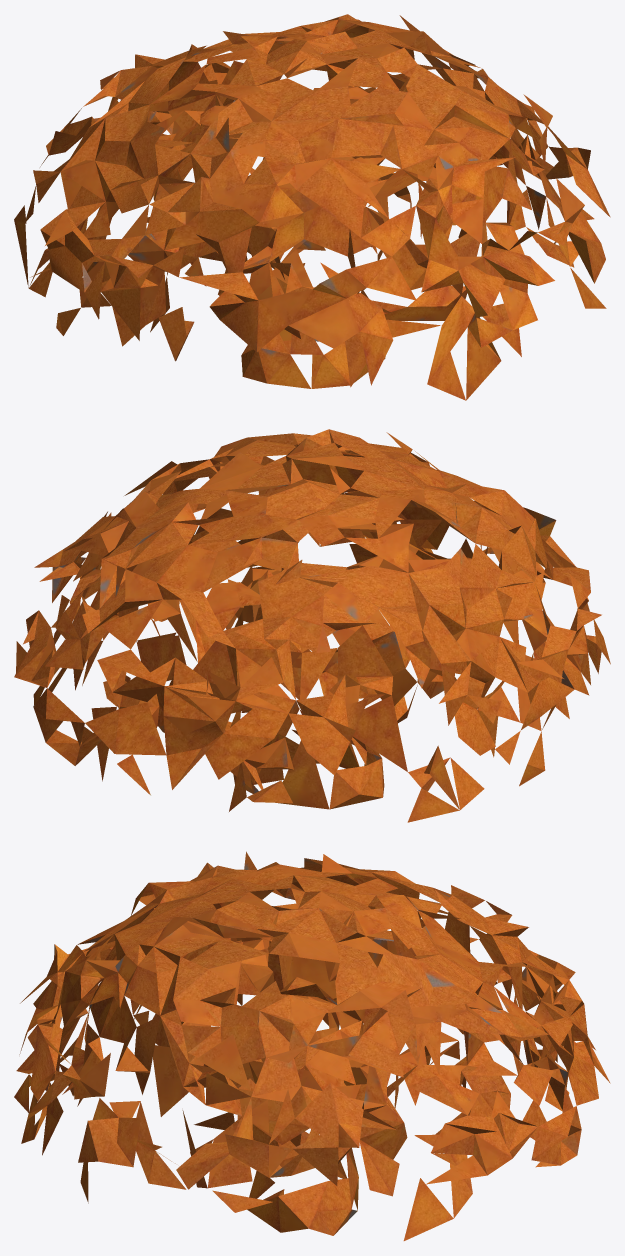
Rendered from bush.glb.
3 renders of one model, top to bottom at view 1: azimuth 30°, elevation 25°; view 2: azimuth 150°, elevation 25°; view 3: azimuth 270°, elevation 25°, orthographic.
Size of the model in its own units: 1.71 by 1.02 by 1.73.
Materials: 1 (1 with a texture image).
